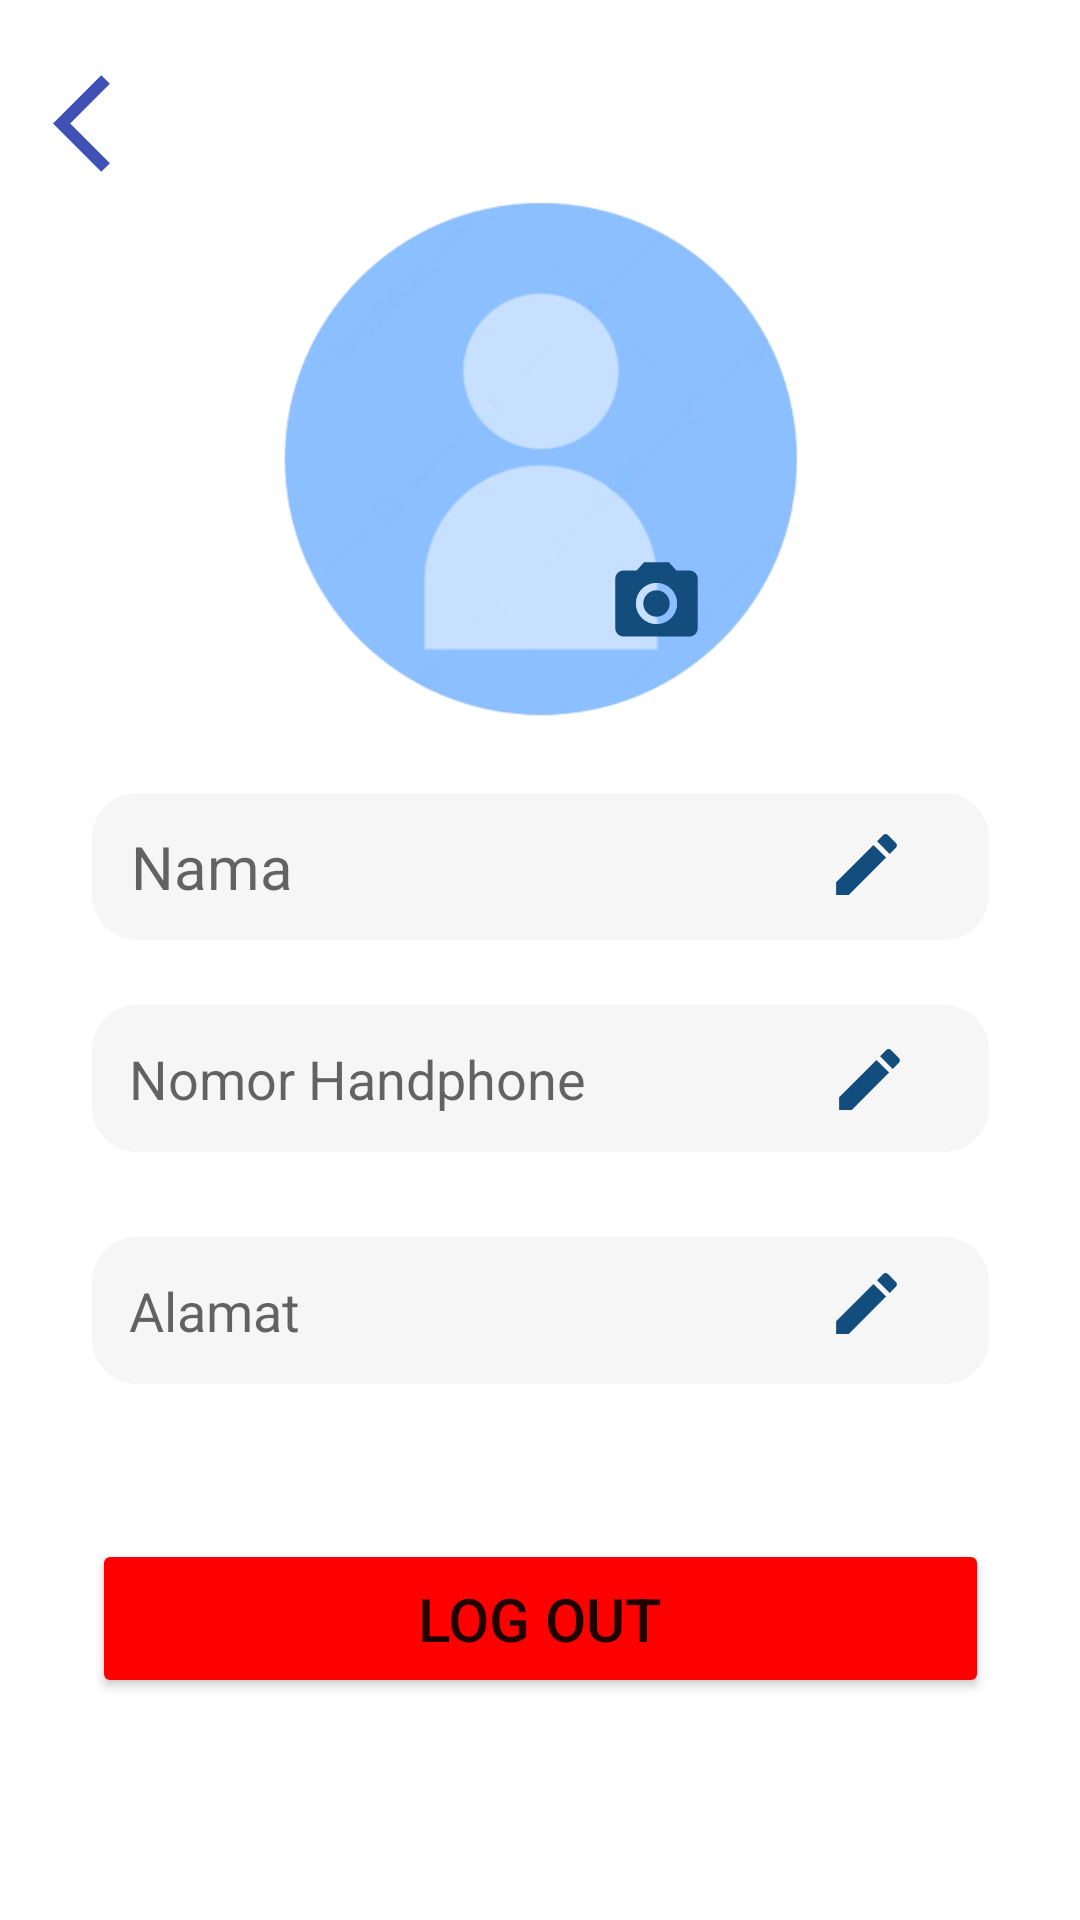

Icon click points for this 1080×1920 phone screenshot, format point (x, y):
back: point (81, 123)
edit: point (866, 864), point (869, 1079), point (866, 1303)
photo camera: point (656, 603)
